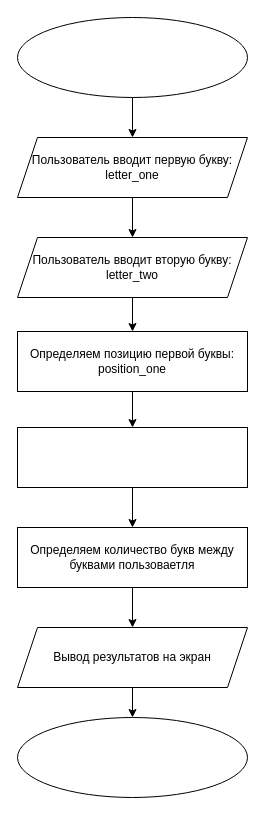
Image size: 265x815. Some labels were removed from this diagram. The shapes that lost their labels are listed below. From the top down, each one's centre as x and y in pixels, then its label:
(132,57): Начало
(132,457): Определяем позицию второй буквы: position_two
(132,757): Конец
